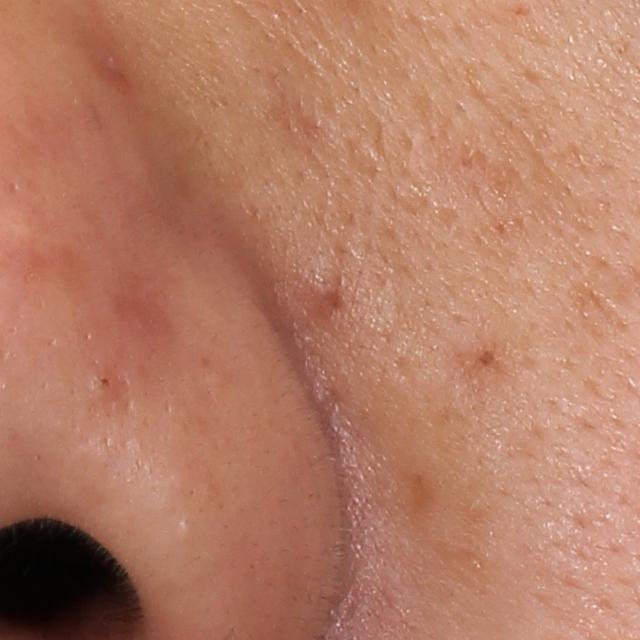comedo: (95, 372, 114, 394)
